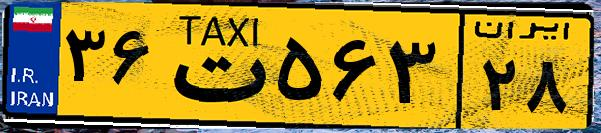2: (475, 38, 525, 113)
3: (385, 28, 445, 110), (57, 26, 110, 100)
5: (270, 28, 330, 110)
6: (330, 28, 385, 110), (110, 28, 158, 98)
8: (525, 38, 570, 115)
ت: (158, 12, 270, 120)
